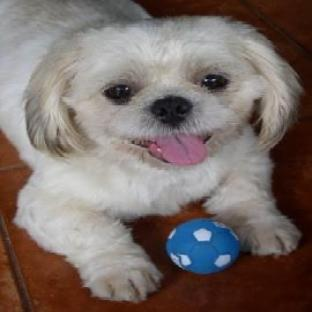Animal: (0, 0, 302, 302)
